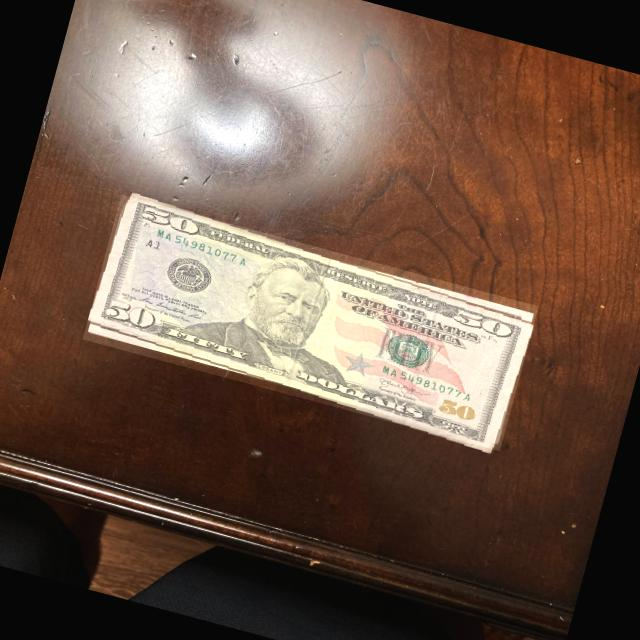fifty: (82, 195, 538, 451)
